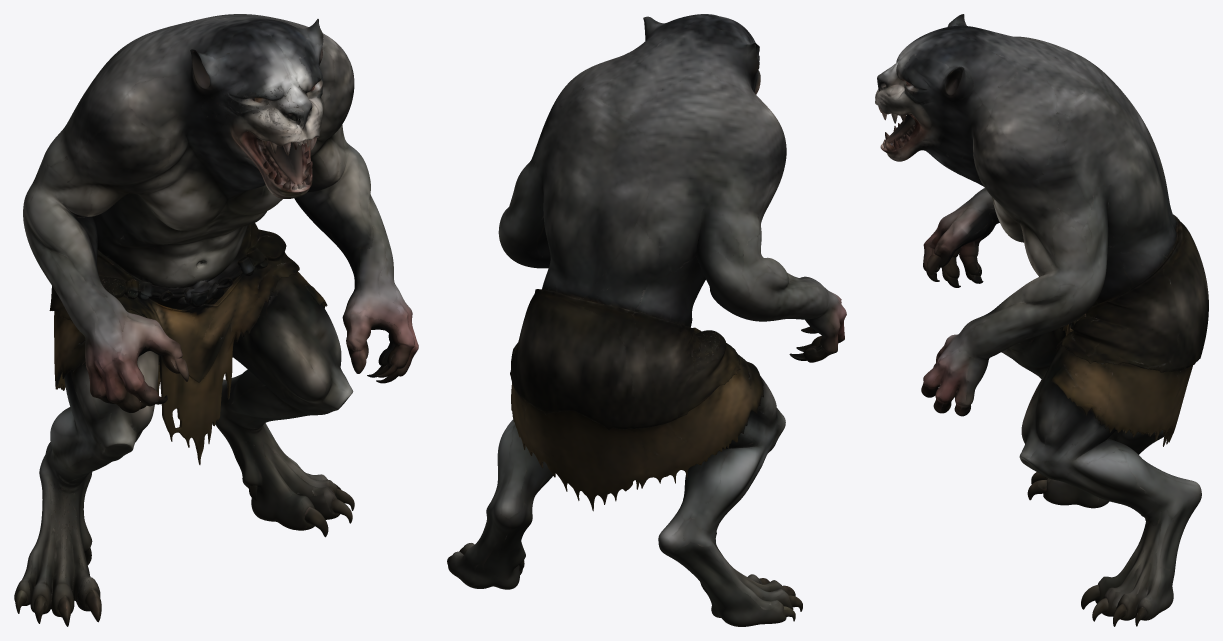
File: troll.glb
The picture shows the model from 3 angles, left to right: view 1: azimuth 30°, elevation 25°; view 2: azimuth 150°, elevation 25°; view 3: azimuth 270°, elevation 25°; orthographic projection. The views are drawn at different scales.
Visible parts, largest first — view 1: material; view 2: material; view 3: material.
Part boxes in pixels (x1=…): material: x1=14, y1=14, x2=418, y2=626; material: x1=447, y1=14, x2=846, y2=626; material: x1=875, y1=14, x2=1208, y2=626.
Bounding box in the file's own units: 0.6231 × 0.9835 × 0.5753.
1 material, 1 textured.
